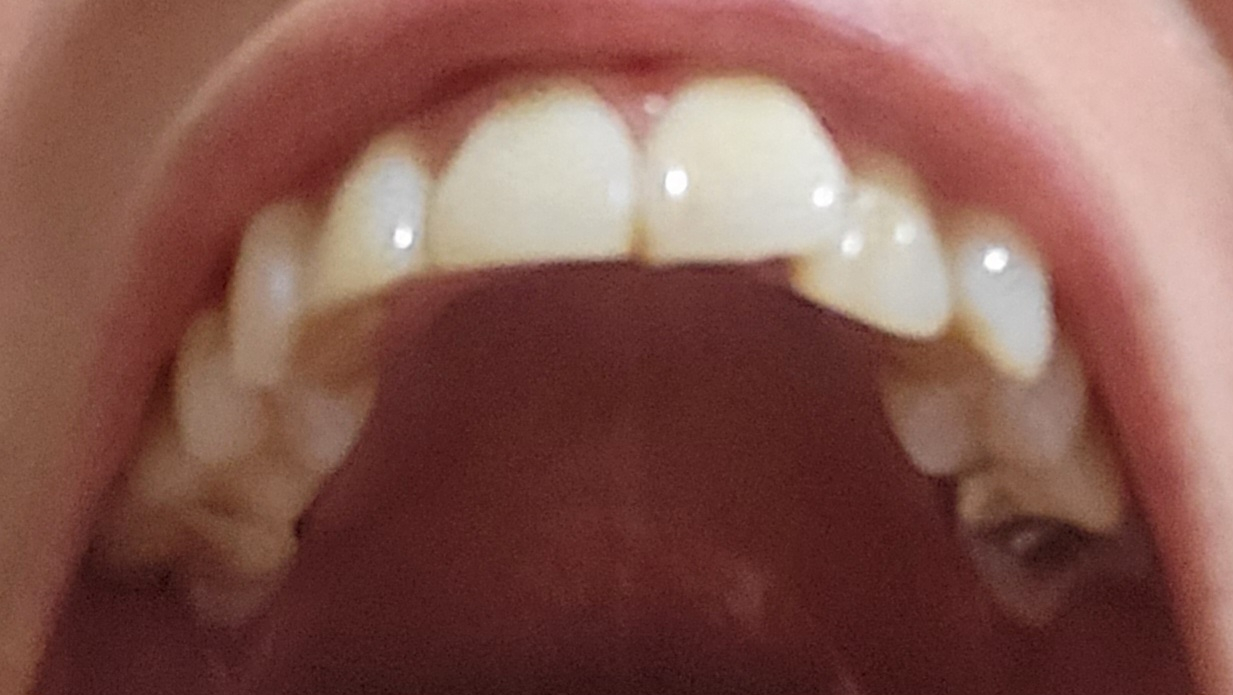teeth: (642, 64, 849, 262), (429, 72, 644, 260), (801, 152, 949, 337), (311, 117, 423, 297), (230, 191, 305, 379)
